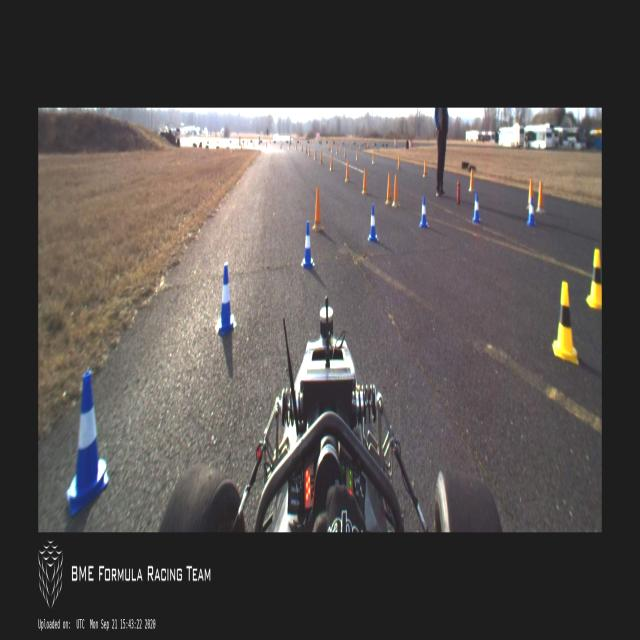blue_cone: (66, 370, 108, 516), (214, 262, 237, 336), (300, 220, 314, 269), (367, 204, 379, 242), (418, 195, 429, 228), (471, 192, 481, 224), (526, 197, 536, 227)
unknown_cone: (312, 187, 324, 230), (535, 181, 546, 213), (391, 174, 401, 208), (525, 178, 533, 210), (384, 172, 392, 204), (361, 167, 369, 194), (468, 168, 474, 192), (344, 160, 350, 182), (329, 154, 334, 172), (422, 160, 427, 178), (396, 154, 401, 170), (319, 149, 323, 165), (371, 150, 375, 164), (313, 148, 317, 160), (355, 148, 359, 160)
yellow_cone: (552, 280, 578, 366), (586, 248, 602, 310)
